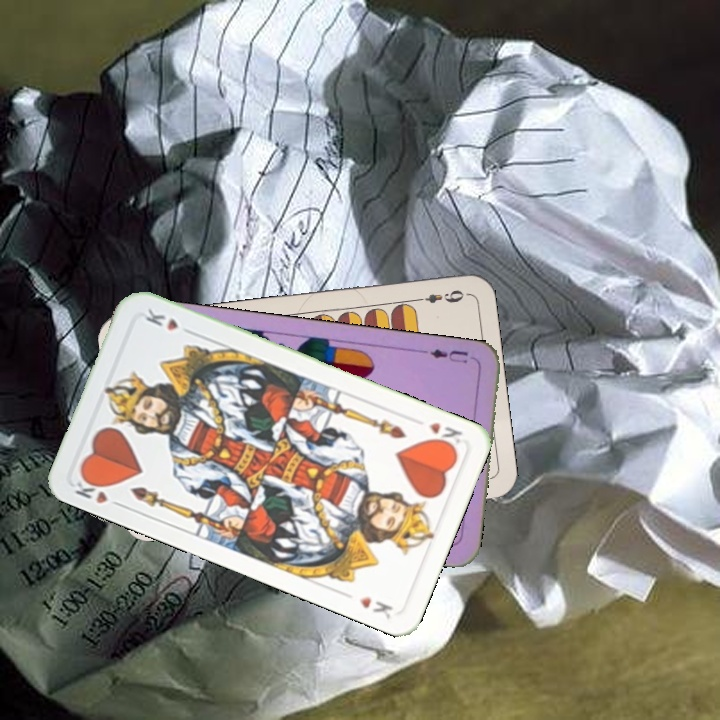E9: (410, 286, 469, 306)
EU: (426, 345, 471, 366)
HK: (70, 471, 126, 510), (425, 418, 465, 452)
